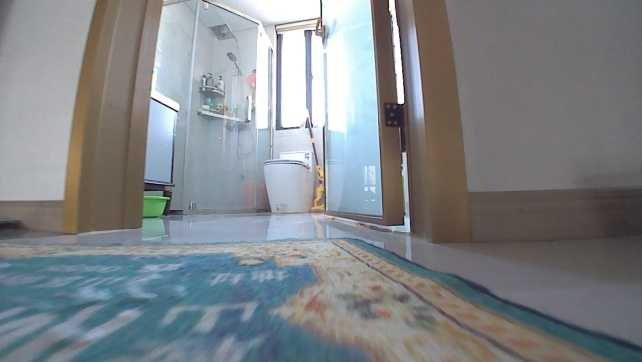blanket: (0, 234, 640, 360)
door_anno: (311, 0, 408, 226)
toilet: (260, 147, 317, 214)
